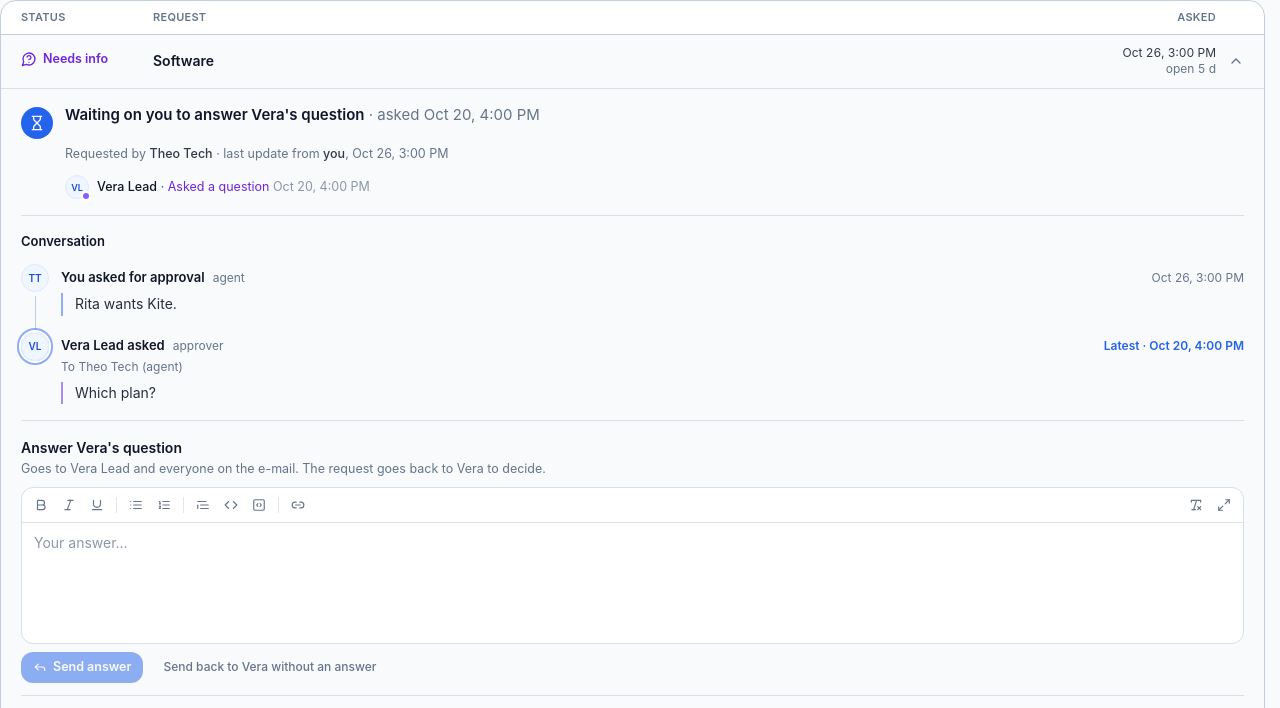
Ticket Approvals tab — a list of requests › the answer box opens full screen and Esc brings it back
Click the button named "Full screen".
click(1224, 505)  # box [1211,492,1237,518]
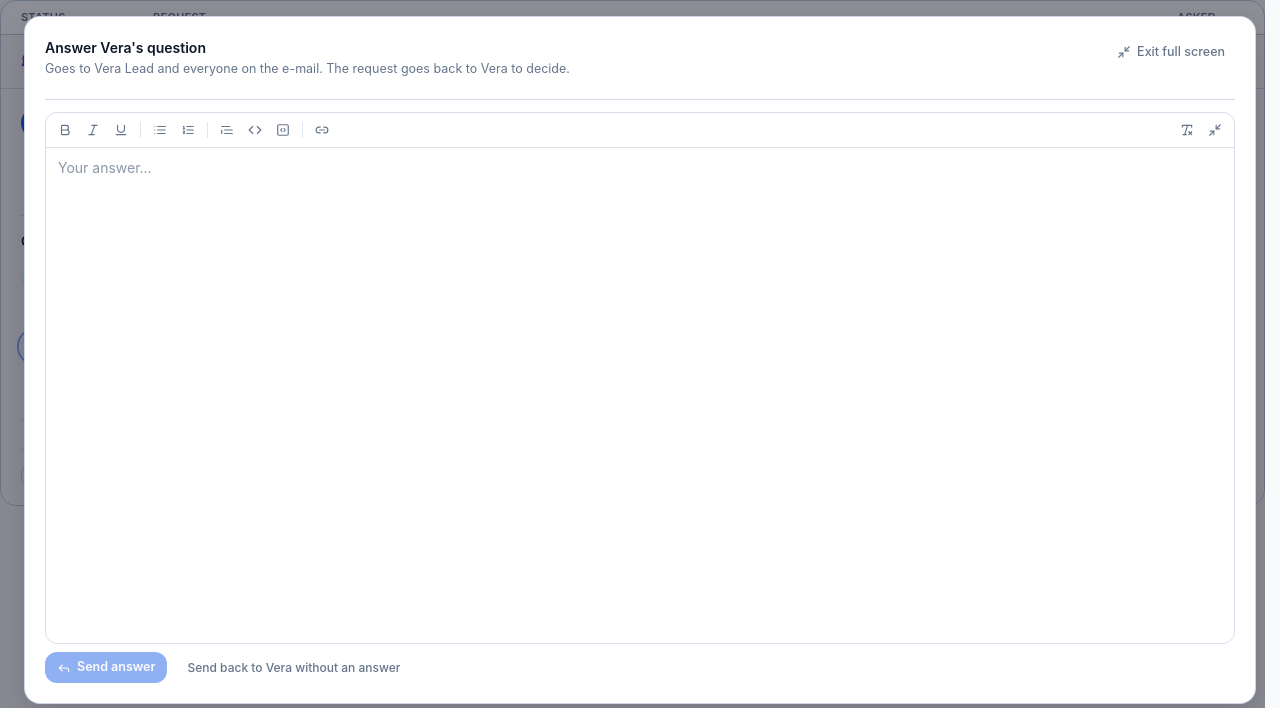
Press Escape in the dialog "Answer Vera's question"
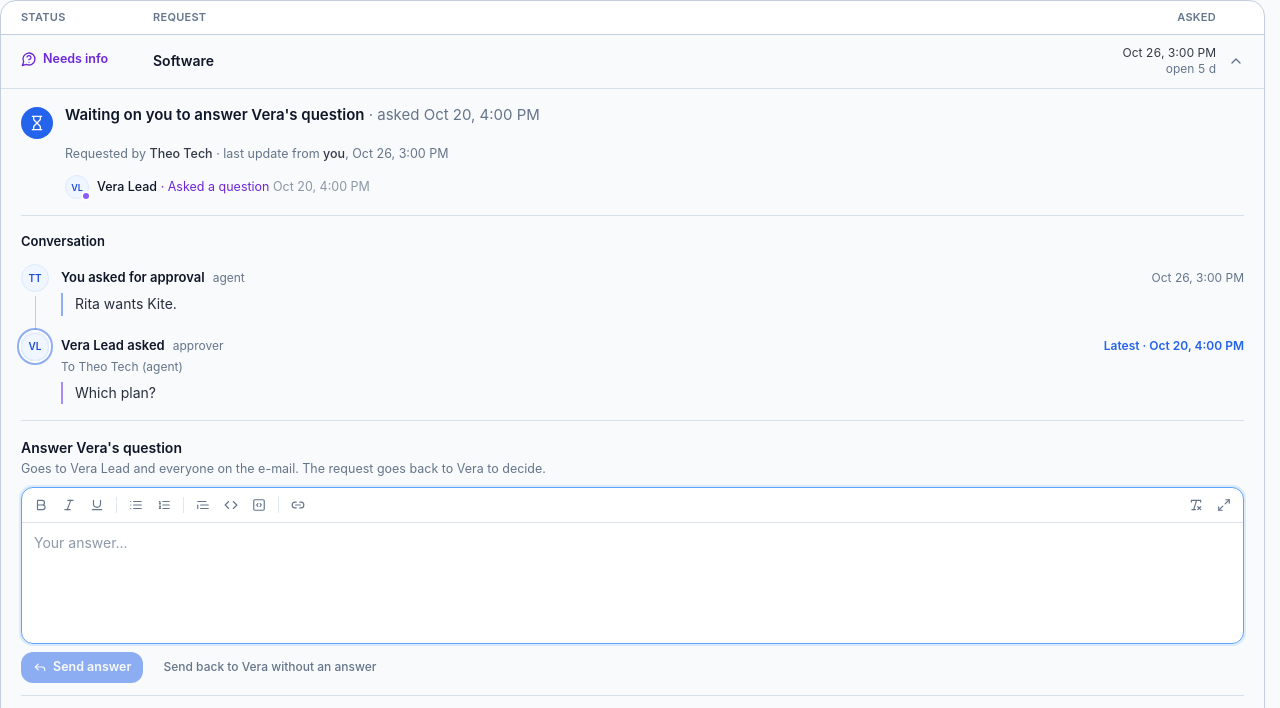
Result: the dialog is gone
Result: the element with test id "answer-box" is shown at [21,437,1244,683]
